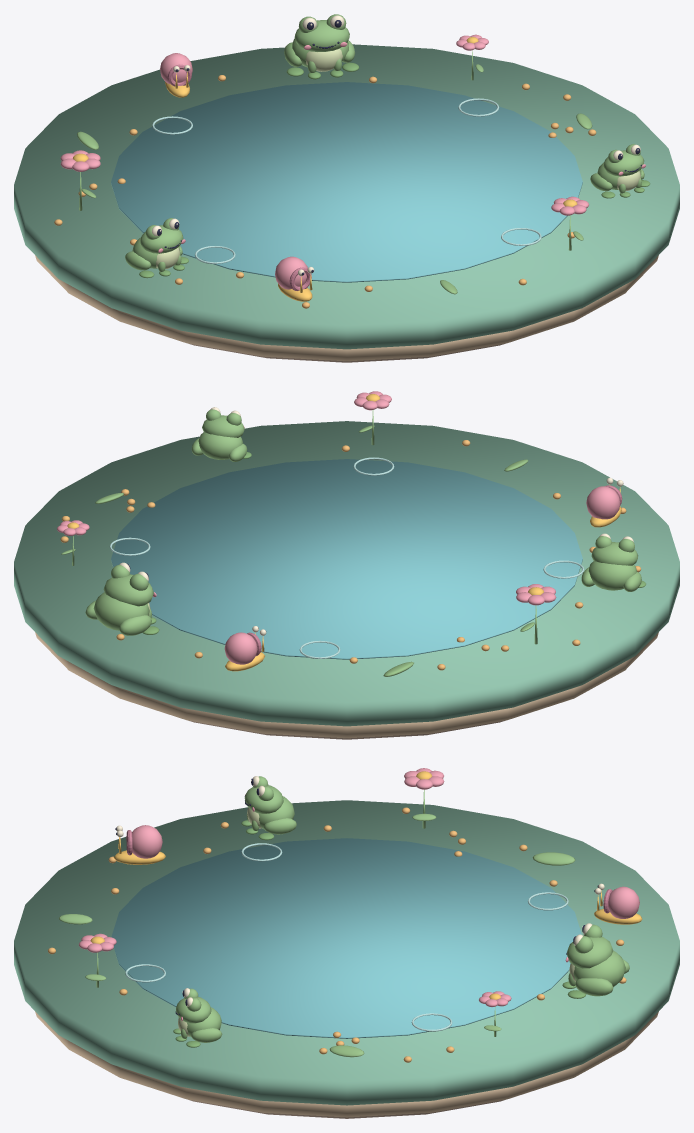
Rendered from world.glb.
The picture shows the model from 3 angles, top to bottom: view 1: azimuth 30°, elevation 25°; view 2: azimuth 150°, elevation 25°; view 3: azimuth 270°, elevation 25°; orthographic projection.
Visible parts, largest first — view 1: Cone, Cone.003, Cone.001, frog.001, frog.002, frog.003, snail.002, snail.001, flower.002, flower.003, Cone.002; view 2: Cone, Cone.003, Cone.001, frog.001, frog.002, frog.003, snail.001, snail.002, flower.002, flower.003, Cone.002; view 3: Cone, Cone.003, Cone.001, frog.001, frog.002, frog.003, snail.002, snail.001, flower.002, flower.003, Cone.002, flower.001.
Part boxes in pixels (x1,y1,x2,y2): Cone: [14, 44, 679, 349]; Cone.003: [111, 82, 582, 282]; Cone.001: [35, 255, 658, 361]; frog.001: [284, 14, 359, 79]; frog.002: [125, 218, 188, 278]; frog.003: [590, 144, 650, 198]; snail.002: [275, 256, 314, 301]; snail.001: [160, 53, 192, 97]; flower.002: [60, 150, 100, 210]; flower.003: [551, 196, 588, 250]; Cone.002: [189, 343, 504, 362]; Cone: [14, 421, 679, 726]; Cone.003: [111, 459, 582, 659]; Cone.001: [35, 632, 658, 738]; frog.001: [85, 562, 159, 635]; frog.002: [581, 533, 645, 591]; frog.003: [191, 407, 251, 461]; snail.001: [224, 626, 266, 671]; snail.002: [586, 477, 623, 527]; flower.002: [516, 584, 556, 644]; flower.003: [354, 391, 391, 445]; Cone.002: [189, 720, 504, 739]; Cone: [14, 800, 679, 1105]; Cone.003: [111, 838, 581, 1038]; Cone.001: [35, 1011, 658, 1117]; frog.001: [562, 923, 629, 998]; frog.002: [241, 776, 296, 840]; frog.003: [173, 988, 222, 1047]; snail.002: [113, 825, 165, 864]; snail.001: [594, 883, 642, 924]; flower.002: [404, 768, 444, 828]; flower.003: [78, 933, 116, 987]; Cone.002: [188, 1099, 505, 1118]; flower.001: [479, 991, 511, 1036].
Size of the model in its own units: 9.6 by 1.69 by 9.6.
